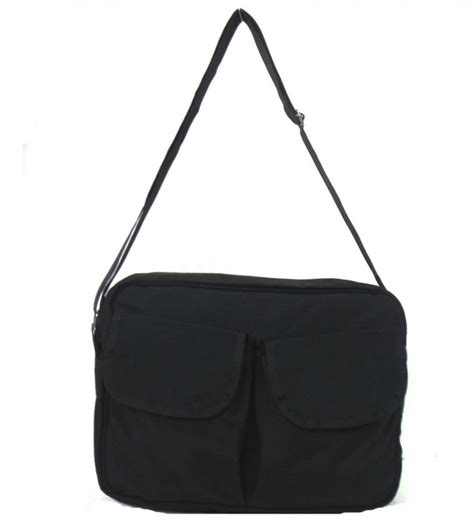nylon: (90, 282, 408, 513)
